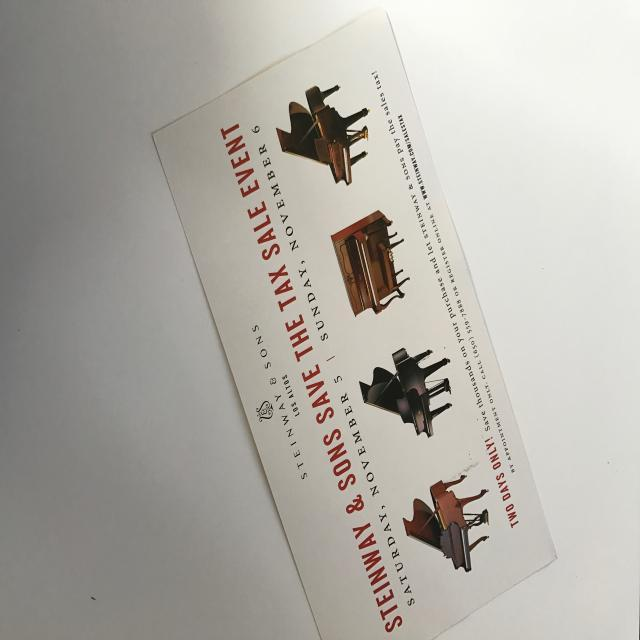paper: (151, 7, 559, 640)
